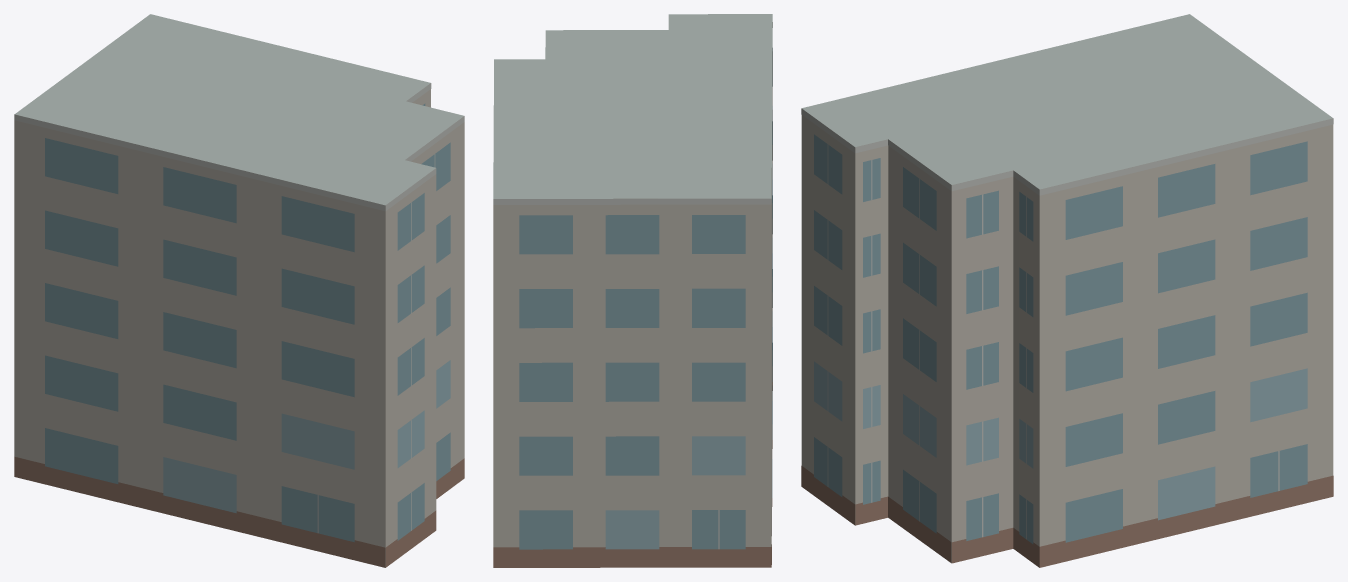
Rendered from survey-upis-32902525.glb.
3 views of the same model, side by side, from view 1: azimuth 30°, elevation 25°; view 2: azimuth 150°, elevation 25°; view 3: azimuth 270°, elevation 25° (orthographic). The views are drawn at different scales.
Visible parts, largest first — view 1: survey-upis-32902525.tmp; view 2: survey-upis-32902525.tmp; view 3: survey-upis-32902525.tmp.
Part boxes in pixels (bbox=[...]): survey-upis-32902525.tmp: bbox=[14, 14, 464, 567]; survey-upis-32902525.tmp: bbox=[493, 14, 772, 567]; survey-upis-32902525.tmp: bbox=[801, 14, 1333, 567].
Size of the model in its own units: 14.84 by 14.9 by 19.
